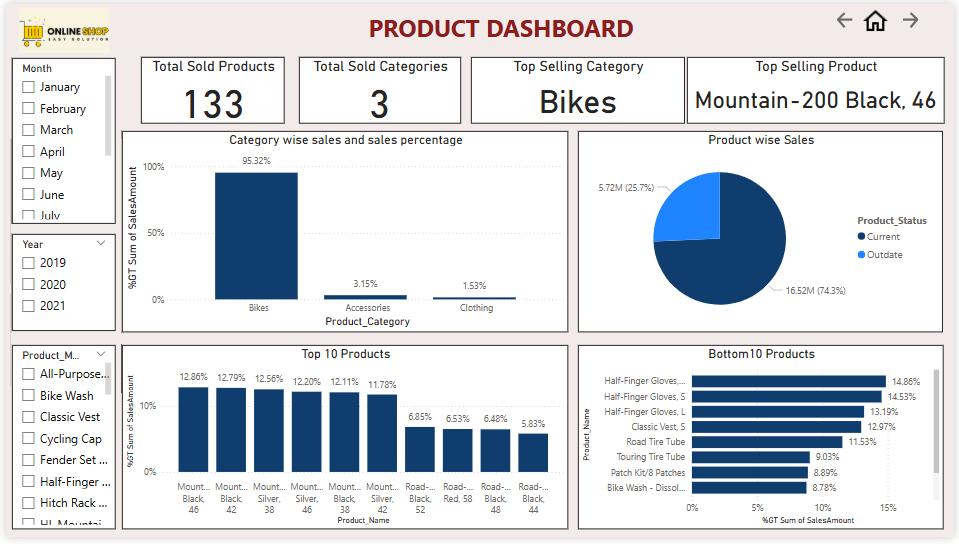

Layout of this report page (visuals, bound fields, positions):
{"tool":"powerbi","page":{"name":"Product_DashBoard","canvas":[1280,720],"ordinal":3},"visuals":[{"type":"textbox","box":[268.7,4.3,800,56.5],"z":0,"group":"g1"},{"type":"card","title":"Total Sold Products","fields":{"Values":["Count(Sales_table.ProductKey)"]},"box":[182.9,71.4,194.3,90],"z":0},{"type":"image","box":[1146.2,0,57.6,46.1],"z":1000,"group":"g1"},{"type":"card","title":"Total Sold Categories","fields":{"Values":["Count(Sales_table.Product_Category)"]},"box":[395.7,71.4,218.6,90],"z":1000},{"type":"actionButton","box":[1118.9,7.2,36,30.2],"z":2000,"group":"g1"},{"type":"card","title":"Top Selling Category","fields":{"Values":["Sales_table.Top_Selling_categories"]},"box":[628.6,71.4,288.6,90],"z":2000},{"type":"actionButton","box":[1206.7,7.2,44.6,30.2],"z":3000,"group":"g1"},{"type":"card","title":"Top Selling Product","fields":{"Values":["Sales_table.Top_Selling_Product"]},"box":[920,71.2,347.5,90],"z":3000},{"type":"image","box":[0,0,157.1,71.4],"z":4000,"group":"g1"},{"type":"lineClusteredColumnComboChart","title":"Category wise sales and sales percentage","fields":{"Category":["Sales_table.Product_Category"],"Y":["Sum(Sales_table.SalesAmount)"]},"box":[156.7,171.7,603.3,271.7],"z":4000},{"type":"clusteredColumnChart","title":"Top 10 Products","fields":{"Category":["Sales_table.Product_Name"],"Y":["Sum(Sales_table.SalesAmount)"]},"box":[157.1,461.4,602.9,248.6],"z":5000},{"type":"clusteredBarChart","title":"Bottom10 Products","fields":{"Category":["Sales_table.Product_Name"],"Y":["Sum(Sales_table.SalesAmount)"]},"box":[772.9,461.4,494.3,248.6],"z":6000},{"type":"slicer","fields":{"Values":["Sales_table.DIM_Calendar.Date.Variation.Date Hierarchy.Month"]},"box":[8.6,72.9,140,224.3],"z":7000},{"type":"slicer","fields":{"Values":["Sales_table.DIM_Calendar.DateKey.Variation.Date Hierarchy.Year"]},"box":[8.6,311.4,140,131.4],"z":8000},{"type":"slicer","fields":{"Values":["Sales_table.Product_Model_Name"]},"box":[8.6,461.4,140,248.6],"z":9000},{"type":"pieChart","title":"Product wise Sales","fields":{"Category":["Sales_table.Product_Status"],"Y":["Sum(Sales_table.SalesAmount)"]},"box":[773.3,171.7,493.3,271.7],"z":10000},{"type":"group","id":"g1","title":"Group 1","box":[0,0,1251.4,71.4],"z":13505}]}

Visuals, with their boxes in screenshot pixels (x1, y1, x2, y2), scaled from the page's 1280x720 canvas onto the 959x544 screenshot:
textbox: (x1=201, y1=3, x2=801, y2=46)
"Total Sold Products" card: (x1=137, y1=54, x2=283, y2=122)
image: (x1=859, y1=0, x2=902, y2=35)
"Total Sold Categories" card: (x1=296, y1=54, x2=460, y2=122)
actionButton: (x1=838, y1=5, x2=865, y2=28)
"Top Selling Category" card: (x1=471, y1=54, x2=687, y2=122)
actionButton: (x1=904, y1=5, x2=937, y2=28)
"Top Selling Product" card: (x1=689, y1=54, x2=950, y2=122)
image: (x1=0, y1=0, x2=118, y2=54)
"Category wise sales and sales percentage" lineClusteredColumnComboChart: (x1=117, y1=130, x2=569, y2=335)
"Top 10 Products" clusteredColumnChart: (x1=118, y1=349, x2=569, y2=536)
"Bottom10 Products" clusteredBarChart: (x1=579, y1=349, x2=949, y2=536)
slicer - Sales_table.DIM_Calendar.Date.Variation.Date Hierarchy.Month: (x1=6, y1=55, x2=111, y2=225)
slicer - Sales_table.DIM_Calendar.DateKey.Variation.Date Hierarchy.Year: (x1=6, y1=235, x2=111, y2=335)
slicer - Sales_table.Product_Model_Name: (x1=6, y1=349, x2=111, y2=536)
"Product wise Sales" pieChart: (x1=579, y1=130, x2=949, y2=335)
"Group 1" group: (x1=0, y1=0, x2=938, y2=54)
